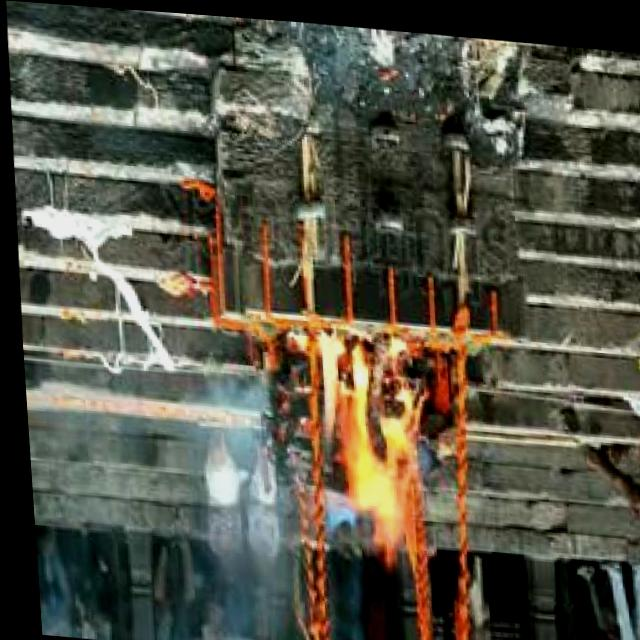Fire: (289, 331, 424, 573)
